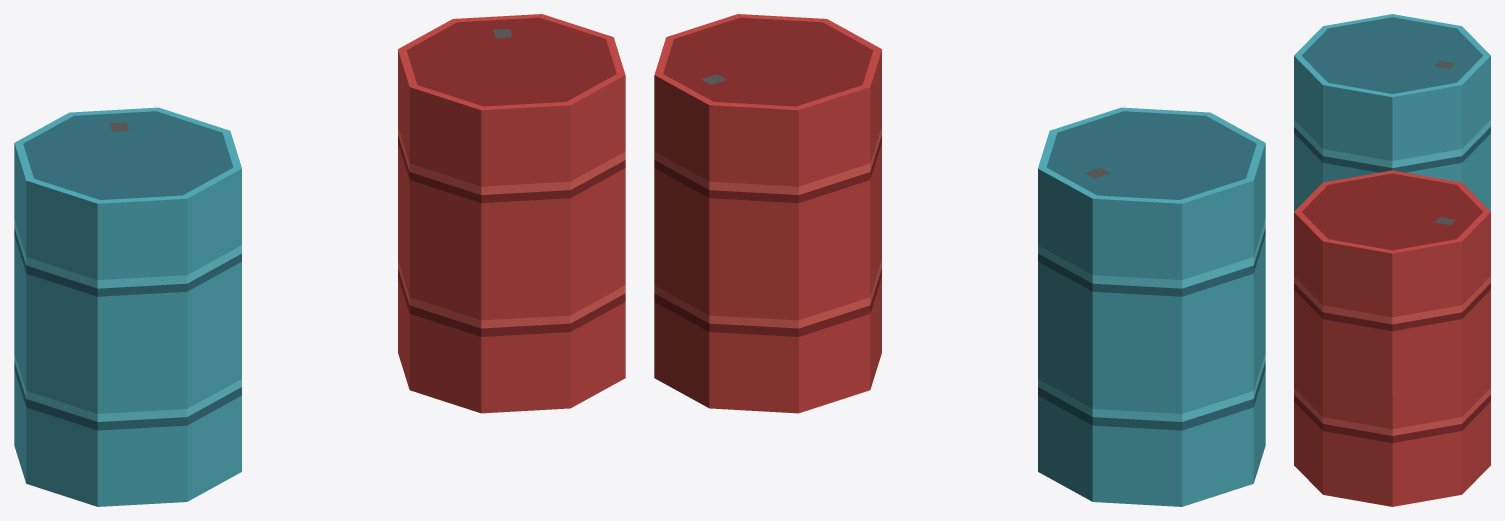
File: Barrel.FBX
3 views of the same model, side by side, from view 1: azimuth 30°, elevation 25°; view 2: azimuth 150°, elevation 25°; view 3: azimuth 270°, elevation 25° (orthographic). The views are drawn at different scales.
Parts seen in each view (by area): view 1: barrel_01, barrel_02; view 2: barrel_01, barrel_02; view 3: barrel_02, barrel_01.
Part boxes in pixels (left/top/right/bottom): barrel_01: left=14, top=107, right=241, bottom=506; barrel_02: left=398, top=14, right=625, bottom=413; barrel_01: left=1038, top=107, right=1265, bottom=506; barrel_02: left=654, top=14, right=881, bottom=413; barrel_02: left=1294, top=170, right=1490, bottom=506; barrel_01: left=1294, top=14, right=1490, bottom=211.
Size of what is drawn, in the model's own units: 306 by 151 by 106.
